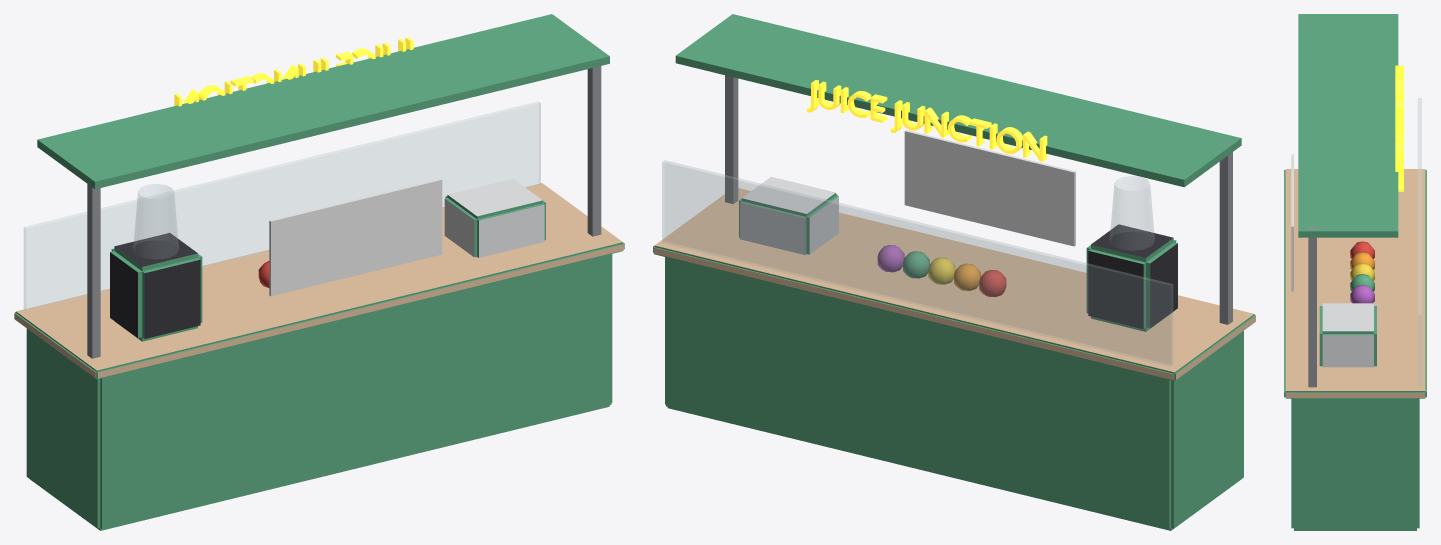
File: smoothie_counter.glb
The picture shows the model from 3 angles, left to right: view 1: azimuth 30°, elevation 25°; view 2: azimuth 150°, elevation 25°; view 3: azimuth 270°, elevation 25°; orthographic projection. The views are drawn at different scales.
Parts seen in each view (by area): view 1: smoothie_counter; view 2: smoothie_counter; view 3: smoothie_counter.
Boxes of the visible parts, <box> form: smoothie_counter: <box>14,14,624,530</box>; smoothie_counter: <box>653,14,1255,530</box>; smoothie_counter: <box>1284,14,1426,530</box>.
Size of the model in its own units: 3.7 by 2.39 by 1.
